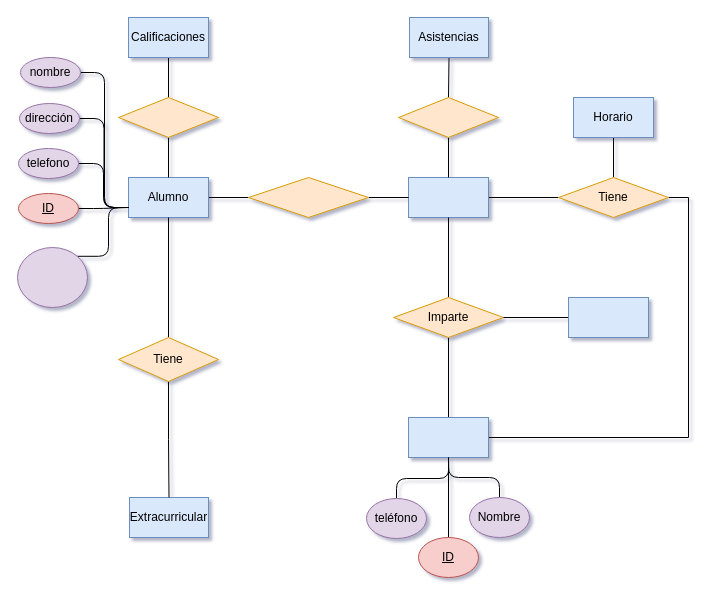
Some shapes in this 713 by 601 pixel diagram are drawn without their labels. The shapes that lost their labels are listed below. From the top down, each one's box as (x1, y1, x2, y2) in pixels, then its label:
(118, 96, 218, 138): Obtiene
(398, 96, 498, 138): Tienen
(248, 176, 368, 218): Matriculado
(408, 176, 488, 218): Cursos
(16, 246, 88, 308): fecha de nacimiento
(568, 296, 648, 338): Materias
(408, 416, 488, 458): Profesor
